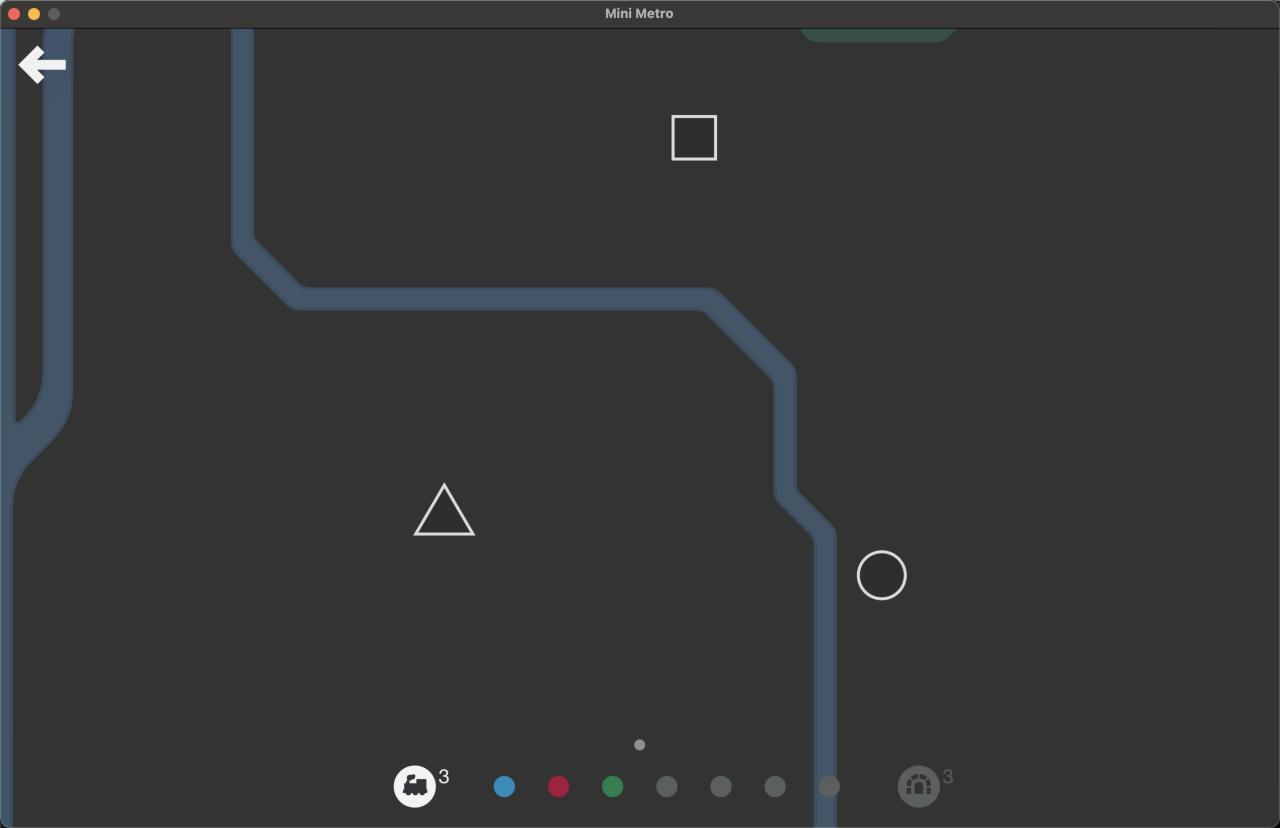CIRCLE: (855, 547, 909, 602)
SQUARE: (670, 113, 718, 162)
TRIANGLE: (411, 481, 478, 537)
